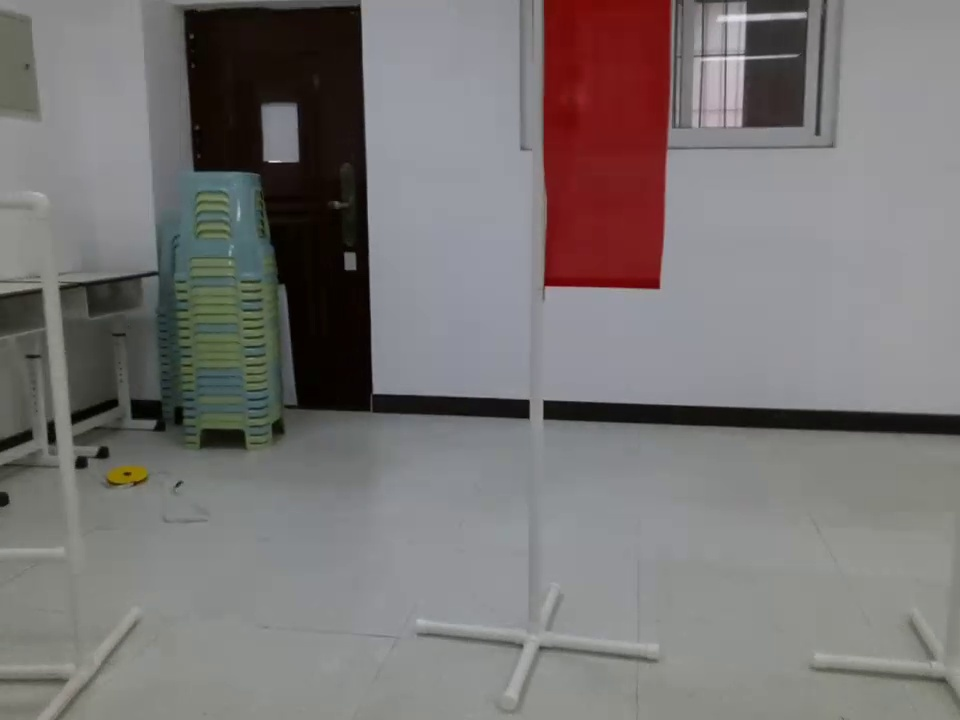qi: (538, 1, 673, 285)
